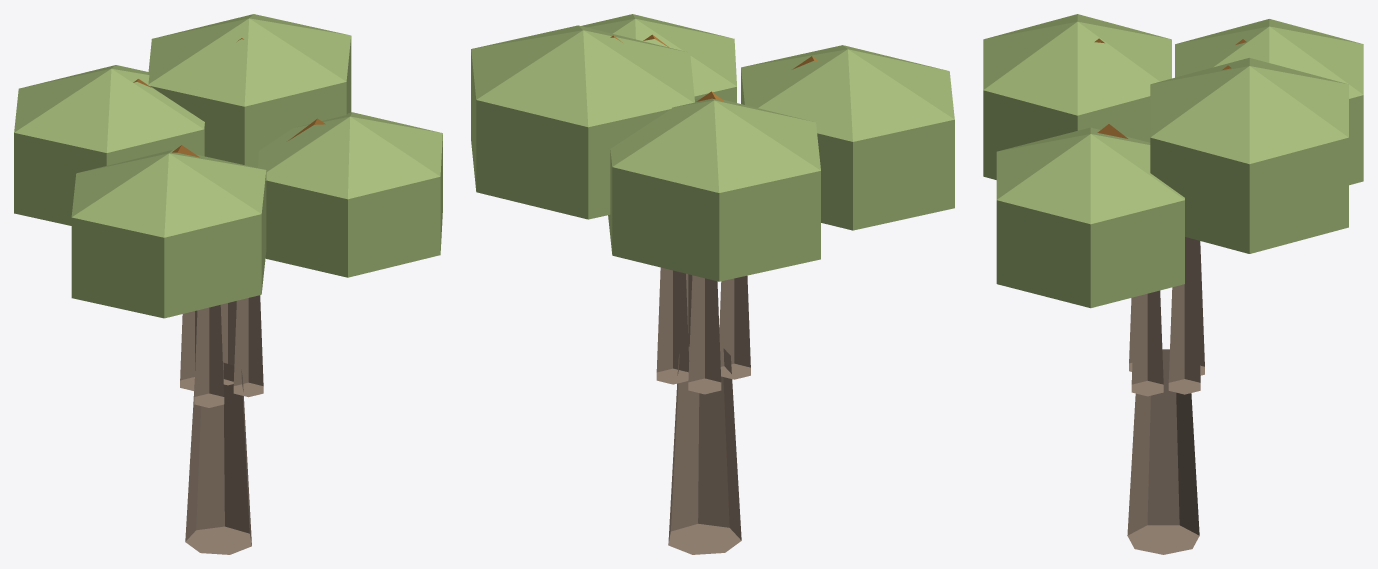
The model's file is flora_31_diospyros_kaki_cay_hong_gion_trai_mat_fruiting_tree.glb.
3 views of the same model, side by side, from view 1: azimuth 30°, elevation 25°; view 2: azimuth 150°, elevation 25°; view 3: azimuth 270°, elevation 25° (orthographic). The views are drawn at different scales.
Visible parts, largest first — view 1: flora_31_diospyros_kaki_cay_hong_gion_trai_mat_fruiting_tree; view 2: flora_31_diospyros_kaki_cay_hong_gion_trai_mat_fruiting_tree; view 3: flora_31_diospyros_kaki_cay_hong_gion_trai_mat_fruiting_tree.
Boxes of the visible parts, x1,y1,x2,y2 form: flora_31_diospyros_kaki_cay_hong_gion_trai_mat_fruiting_tree: (14,14,442,554); flora_31_diospyros_kaki_cay_hong_gion_trai_mat_fruiting_tree: (471,14,954,554); flora_31_diospyros_kaki_cay_hong_gion_trai_mat_fruiting_tree: (983,14,1363,554).
Bounding box in the file's own units: 3.53 × 4.25 × 2.88.
